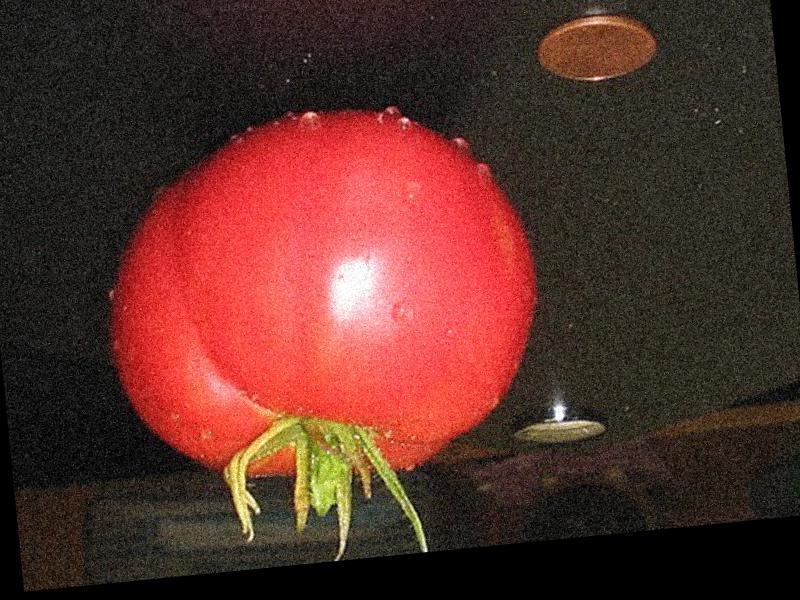Tomato: (88, 91, 552, 499)
